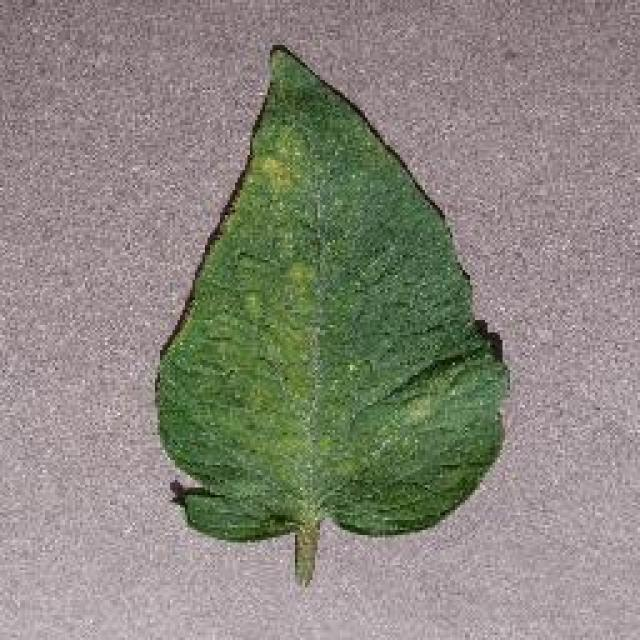Tomato mosaic virus leaf: (153, 41, 505, 544)
